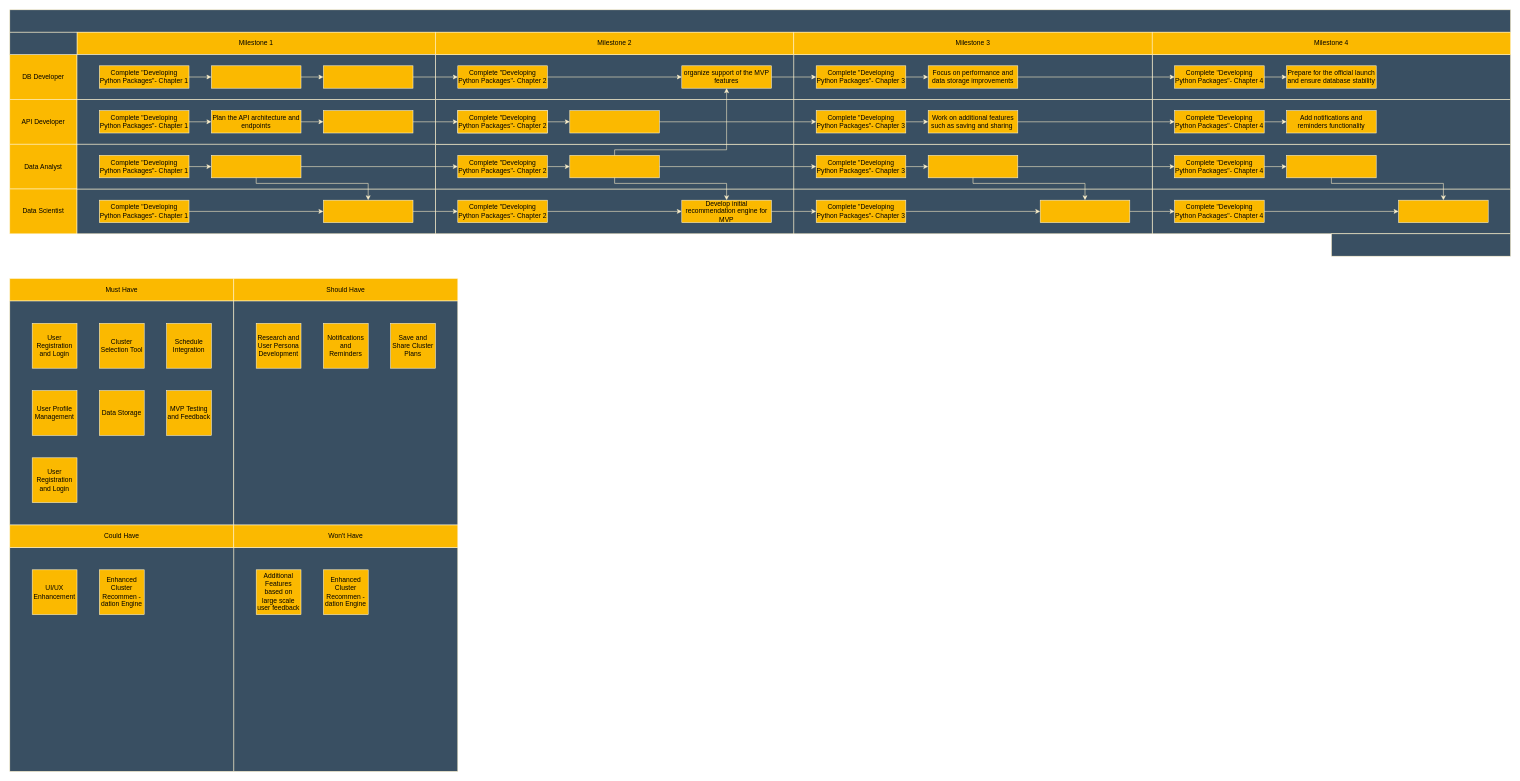
The diagram is 1520 pixels wide and 781 high, and some of its shapes have lost their labels. Here are the shapes that lost their labels. From the top down, the box of each, then its label:
(9, 9, 1511, 32): General Education Class Recommendation System for AUA Students - Project Roadmap
(9, 32, 77, 55): V 1.0
(211, 65, 301, 88): Explore options for the database structure
(323, 65, 413, 88): Install DBeaver
(323, 110, 413, 133): Install FastAPI
(569, 110, 659, 133): Develop core functionalities for user registration, login, and cluster selection
(211, 155, 301, 178): Explore sources for the initial data analysis
(569, 155, 659, 178): Provide insights for users based on initial data
(928, 155, 1018, 178): Gather a small sample of user feedback and analyze
(1286, 155, 1376, 178): Implement analytics for monitoring user engagement
(323, 200, 413, 223): Explore appropriate algorithms for cluster recommendation
(1040, 200, 1130, 223): Fine-tune the cluster recommendation algorithm
(1398, 200, 1488, 223): Monitor performance and make refinements as needed
(1331, 233, 1511, 256): * Milestones 2-4 will get more details in the future
